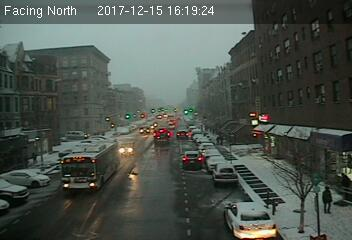bus: (57, 143, 119, 189)
car: (224, 201, 278, 238), (211, 162, 238, 184), (180, 151, 203, 169), (117, 142, 137, 156), (153, 128, 170, 141), (176, 129, 189, 139)
pedestrian: (322, 185, 333, 215)
